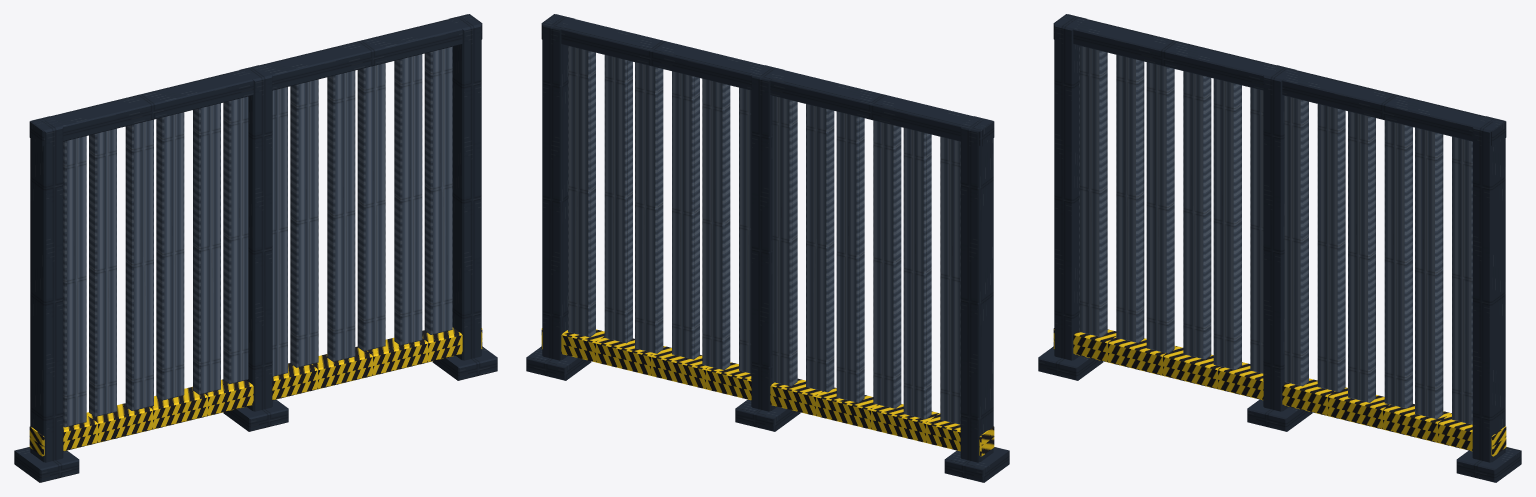
Rendered from wall_section_metal.glb.
3 views of the same model, side by side, from view 1: azimuth 30°, elevation 25°; view 2: azimuth 150°, elevation 25°; view 3: azimuth 330°, elevation 25° (orthographic).
Parts seen in each view (by area): view 1: wall_section_metal; view 2: wall_section_metal; view 3: wall_section_metal.
Boxes of the visible parts, box(x1,y1,x2,y2) form: wall_section_metal: box(14, 14, 497, 482); wall_section_metal: box(526, 14, 1009, 482); wall_section_metal: box(1038, 14, 1521, 482).
Bounding box in the file's own units: 4.16 × 3 × 0.42.
3 materials, 3 textured.
